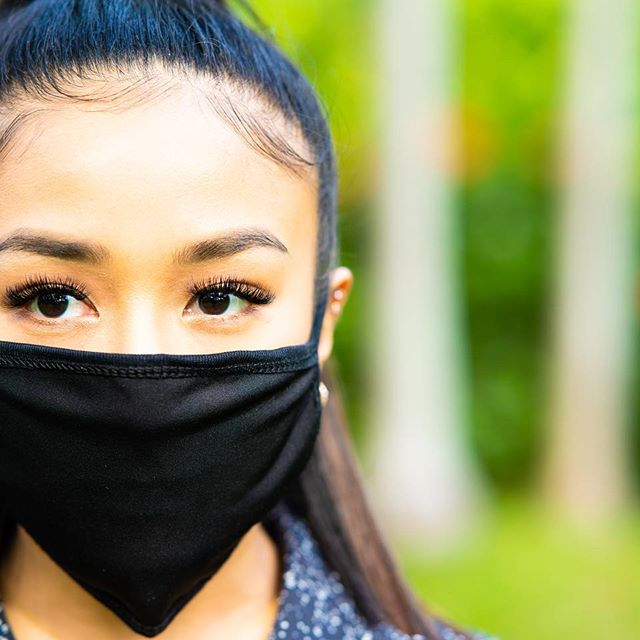homemade: (1, 336, 332, 625)
